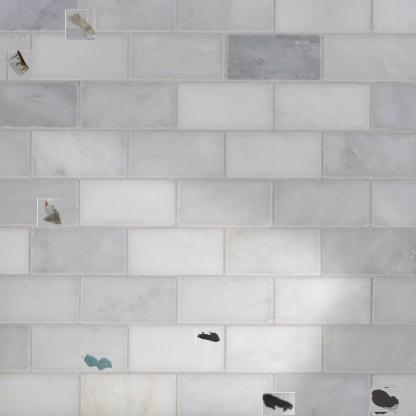dirty: (66, 10, 96, 39), (6, 50, 32, 80), (262, 392, 295, 415), (37, 198, 62, 226), (195, 328, 220, 344)
liquid: (371, 387, 397, 414), (82, 351, 112, 371)
